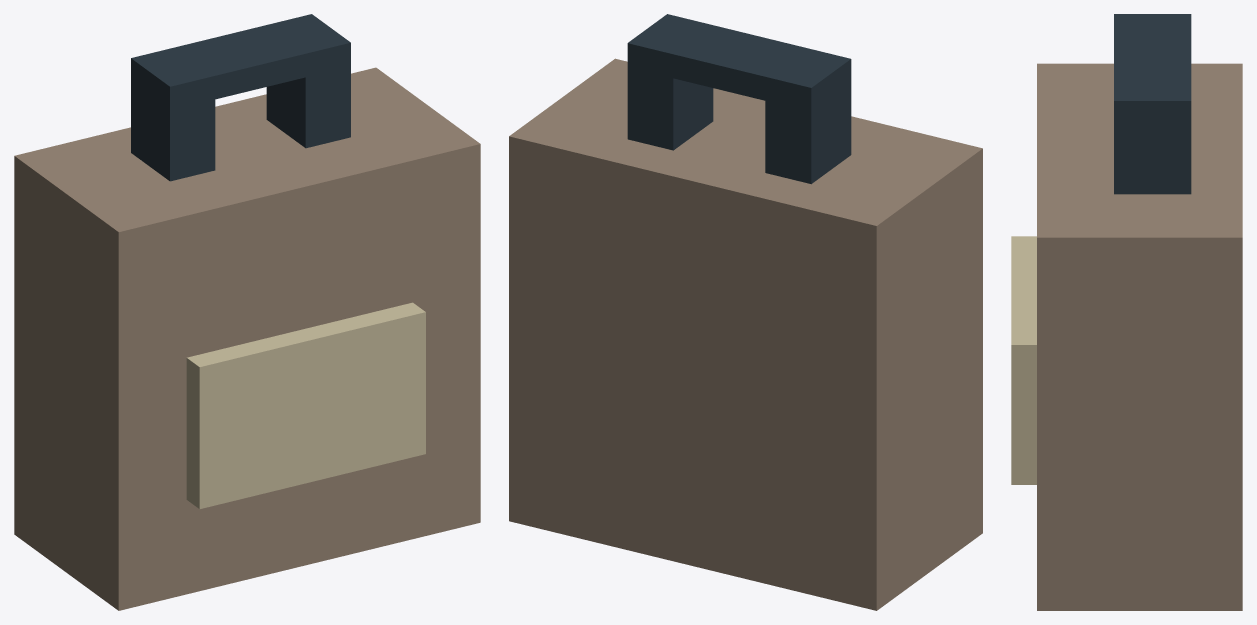
Rendered from legal-04.glb.
3 views of the same model, side by side, from view 1: azimuth 30°, elevation 25°; view 2: azimuth 150°, elevation 25°; view 3: azimuth 270°, elevation 25° (orthographic). The views are drawn at different scales.
Parts seen in each view (by area): view 1: Legal briefcase; view 2: Legal briefcase; view 3: Legal briefcase.
Part boxes in pixels (x1,y1,x2,y2): Legal briefcase: [14, 14, 480, 610]; Legal briefcase: [509, 14, 982, 610]; Legal briefcase: [1011, 14, 1242, 610].
Bounding box in the file's own units: 1.28 × 1.6 × 0.72.
